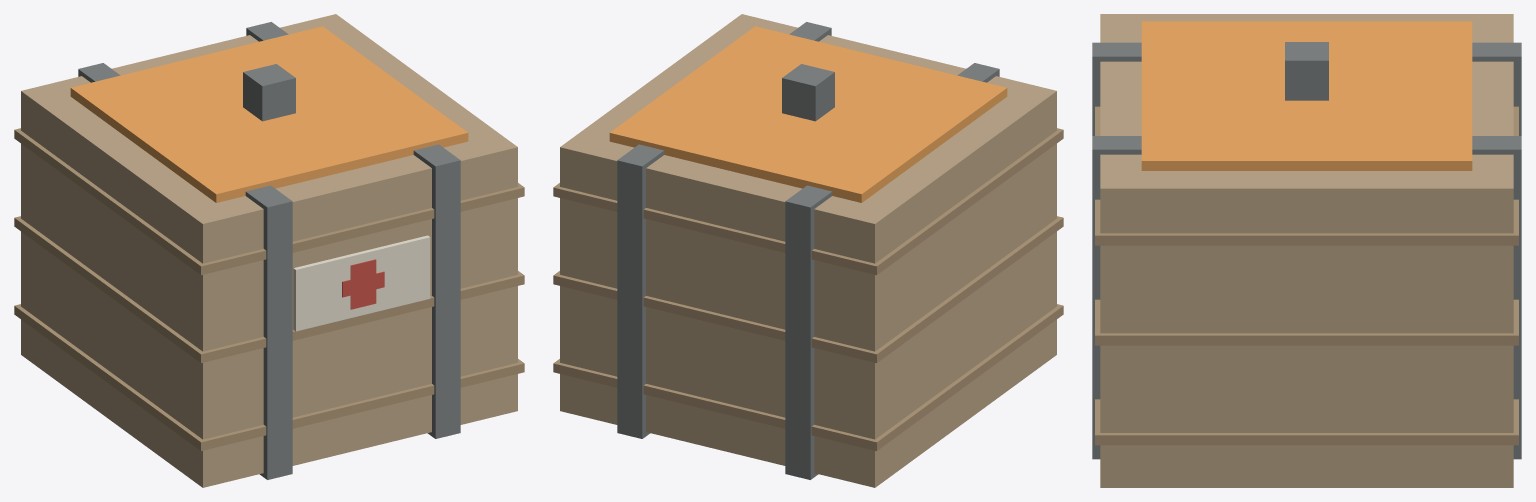
Rendered from prop_supply_crate.fbx.
3 renders of one model, left to right at view 1: azimuth 30°, elevation 25°; view 2: azimuth 150°, elevation 25°; view 3: azimuth 270°, elevation 25°, orthographic. The views are drawn at different scales.
Visible parts, largest first — view 1: prop_supply_crate; view 2: prop_supply_crate; view 3: prop_supply_crate.
Part boxes in pixels (box(x1,y1,x2,y2)): prop_supply_crate: box(14, 14, 524, 487); prop_supply_crate: box(553, 14, 1063, 487); prop_supply_crate: box(1092, 14, 1521, 487).
Bounding box in the file's own units: 0.77 × 0.71 × 0.78.
